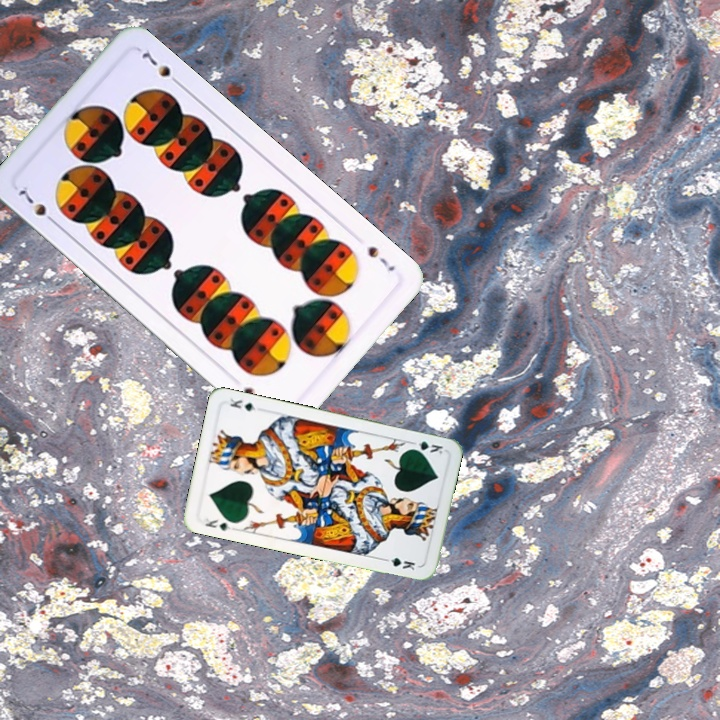GK: (406, 437, 445, 457), (199, 514, 237, 533)
S7: (14, 181, 60, 228), (363, 242, 398, 274)
